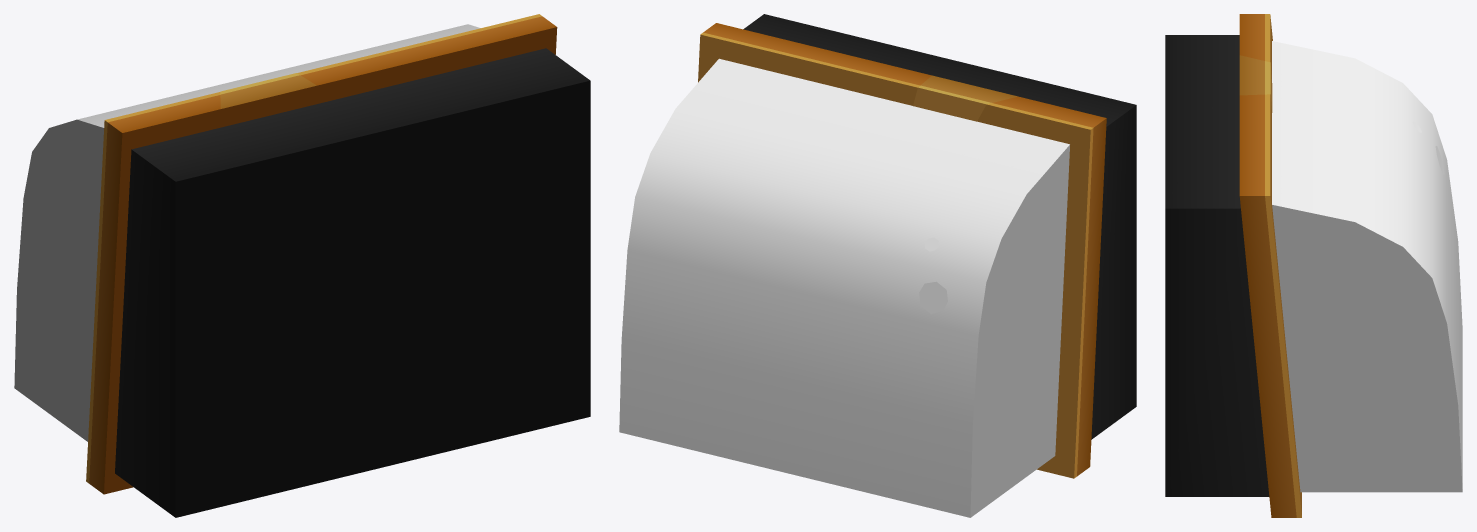
The model's file is HatsDisplay.fbx.
The picture shows the model from 3 angles, left to right: view 1: azimuth 30°, elevation 25°; view 2: azimuth 150°, elevation 25°; view 3: azimuth 270°, elevation 25°; orthographic projection. The views are drawn at different scales.
Parts seen in each view (by area): view 1: HatsDisplay, GlassCase; view 2: GlassCase, HatsDisplay; view 3: GlassCase, HatsDisplay.
Boxes of the visible parts, x1,y1,x2,y2 form: HatsDisplay: (86,14,590,517); GlassCase: (14,24,480,441); GlassCase: (619,58,1069,517); HatsDisplay: (698,14,1136,478); GlassCase: (1272,41,1462,492); HatsDisplay: (1165,14,1301,517).
Bounding box in the file's own units: 91.47 × 75.43 × 63.1.
